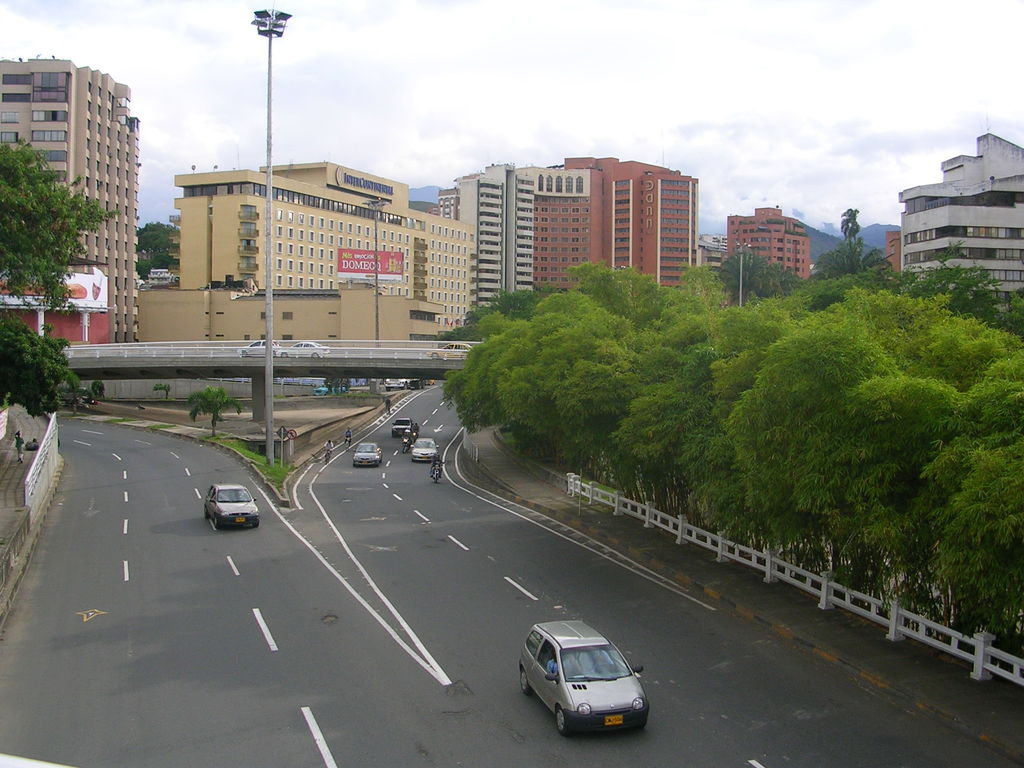Car: (517, 622, 657, 747), (203, 483, 257, 529), (277, 339, 330, 355), (353, 442, 383, 469), (424, 343, 472, 357), (234, 339, 277, 353), (408, 440, 439, 457), (393, 417, 412, 436)
